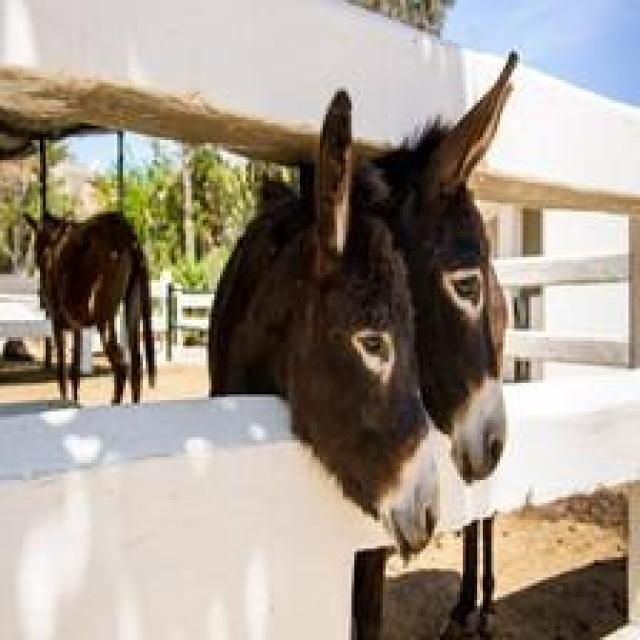Donkey: (206, 49, 517, 637), (363, 48, 517, 486), (20, 208, 157, 403)
